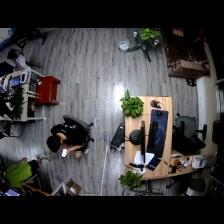normal: (45, 121, 89, 161), (1, 156, 45, 194), (6, 49, 31, 75)
